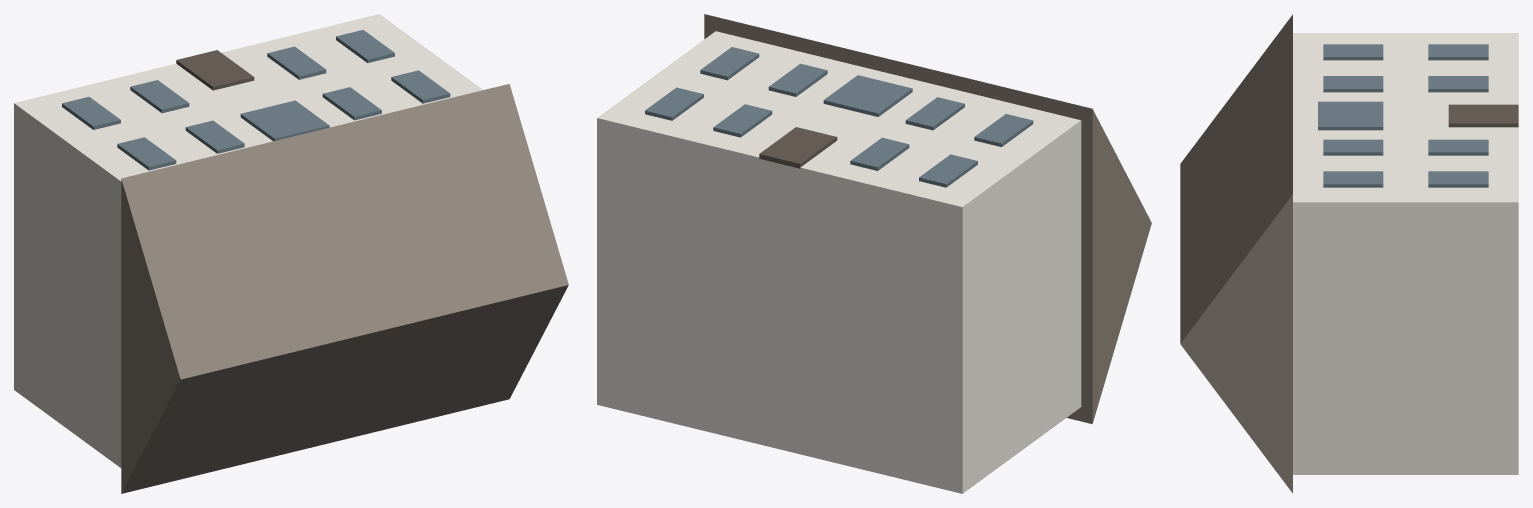
Rendered from r-124-white-alster-villa.glb.
The picture shows the model from 3 angles, left to right: view 1: azimuth 30°, elevation 25°; view 2: azimuth 150°, elevation 25°; view 3: azimuth 270°, elevation 25°; orthographic projection. The views are drawn at different scales.
Parts seen in each view (by area): view 1: roof, walls, windows, door; view 2: walls, roof, windows, door; view 3: walls, roof, windows, door.
Boxes of the visible parts, box(x1,y1,x2,y2) form: roof: box(121, 84, 568, 493); walls: box(14, 14, 482, 467); windows: box(62, 30, 450, 170); door: box(176, 50, 254, 90); walls: box(597, 31, 1081, 493); roof: box(704, 14, 1151, 423); windows: box(645, 47, 1033, 187); door: box(759, 127, 837, 168); walls: box(1293, 33, 1518, 474); roof: box(1180, 14, 1292, 493); windows: box(1318, 44, 1488, 187); door: box(1448, 104, 1518, 127).
Bounding box in the file's own units: 17000 × 13200 × 13500.
